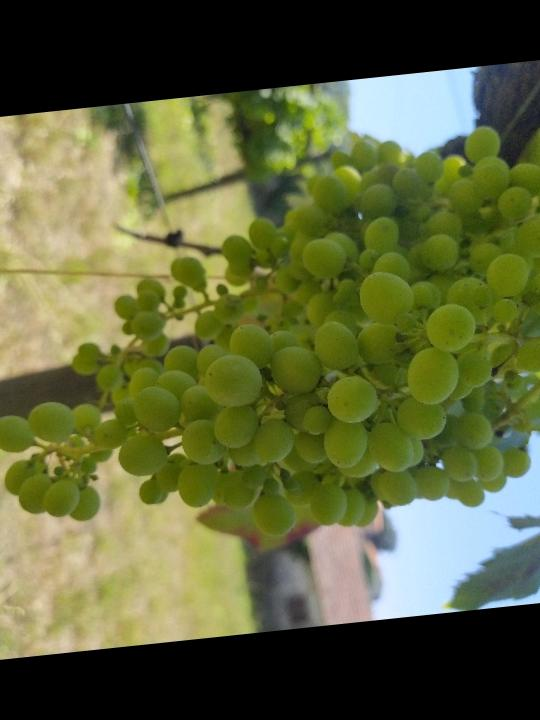grape: (0, 109, 540, 570)
